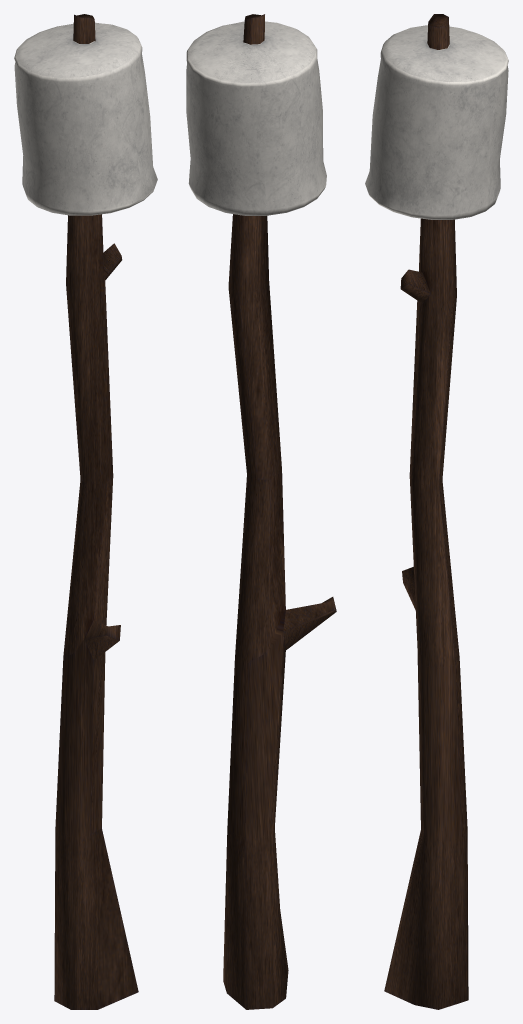
The model's file is marshmallowStix.fbx.
The picture shows the model from 3 angles, left to right: view 1: azimuth 90°, elevation 25°; view 2: azimuth 150°, elevation 25°; view 3: azimuth 270°, elevation 25°; orthographic projection.
Parts seen in each view (by area): view 1: pCylinder3; view 2: pCylinder3; view 3: pCylinder3.
Part boxes in pixels (left/top/right/bottom): pCylinder3: left=14, top=14, right=157, bottom=1009; pCylinder3: left=186, top=14, right=336, bottom=1009; pCylinder3: left=365, top=14, right=508, bottom=1009.
Bounding box in the file's own units: 6.86 × 50.27 × 6.65.
2 materials, 2 textured.
